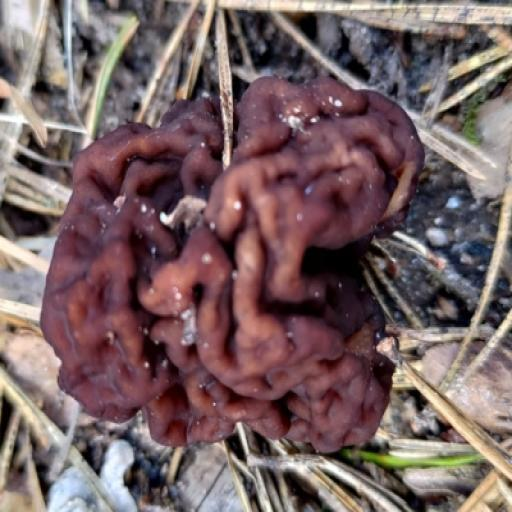mushroom: (26, 43, 432, 475)
